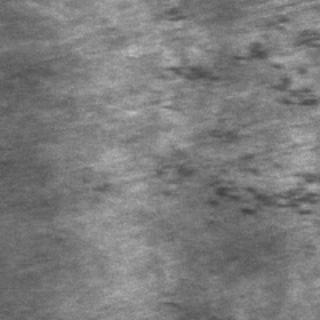rolled pit: (148, 12, 316, 112), (149, 127, 317, 219)
